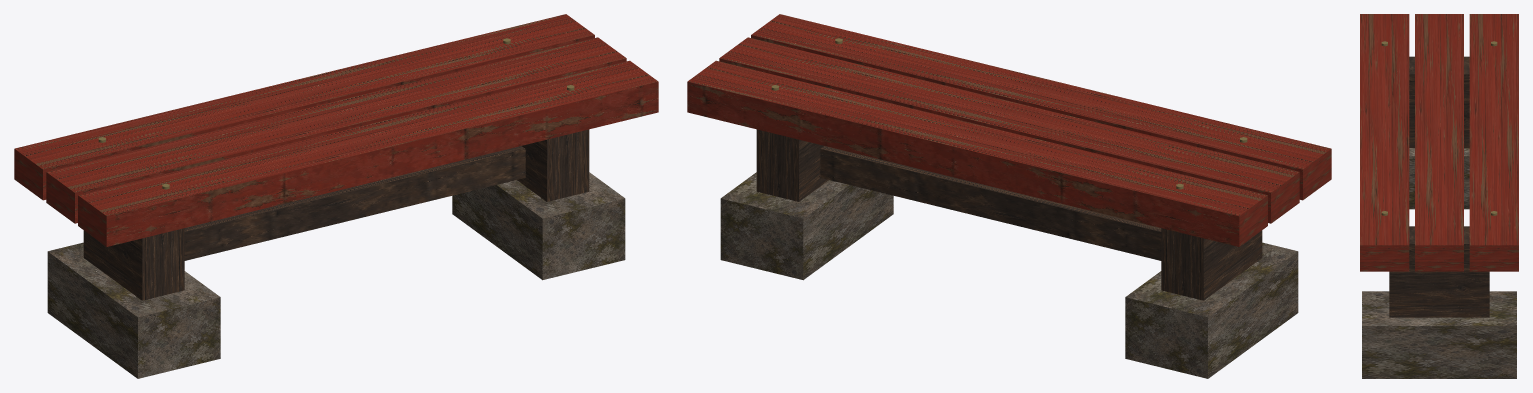
The model's file is sakura-bench.glb.
3 renders of one model, left to right at view 1: azimuth 30°, elevation 25°; view 2: azimuth 150°, elevation 25°; view 3: azimuth 270°, elevation 25°, orthographic. The views are drawn at different scales.
Visible parts, largest first — view 1: sakura-bench-sakura-red, sakura-bench-sakura-stone, sakura-bench-sakura-wood; view 2: sakura-bench-sakura-red, sakura-bench-sakura-stone, sakura-bench-sakura-wood; view 3: sakura-bench-sakura-red, sakura-bench-sakura-stone, sakura-bench-sakura-wood.
Boxes of the visible parts, x1=… form: sakura-bench-sakura-red: x1=14, y1=14, x2=658, y2=246; sakura-bench-sakura-stone: x1=47, y1=172, x2=625, y2=378; sakura-bench-sakura-wood: x1=83, y1=129, x2=589, y2=300; sakura-bench-sakura-red: x1=687, y1=14, x2=1331, y2=246; sakura-bench-sakura-stone: x1=720, y1=172, x2=1298, y2=378; sakura-bench-sakura-wood: x1=756, y1=129, x2=1262, y2=300; sakura-bench-sakura-red: x1=1360, y1=14, x2=1518, y2=271; sakura-bench-sakura-stone: x1=1362, y1=148, x2=1516, y2=378; sakura-bench-sakura-wood: x1=1389, y1=56, x2=1489, y2=317.
Size of the model in its own units: 3 by 0.9025 by 0.87.
4 materials, 3 textured.
